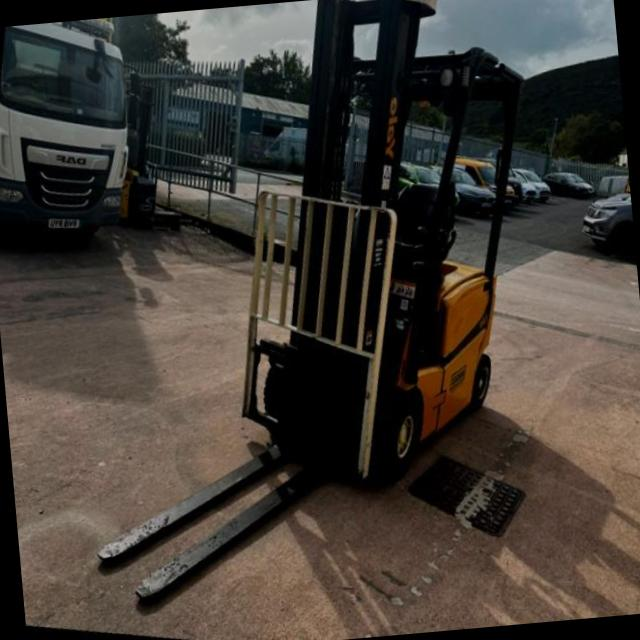forklift: (175, 0, 594, 541)
